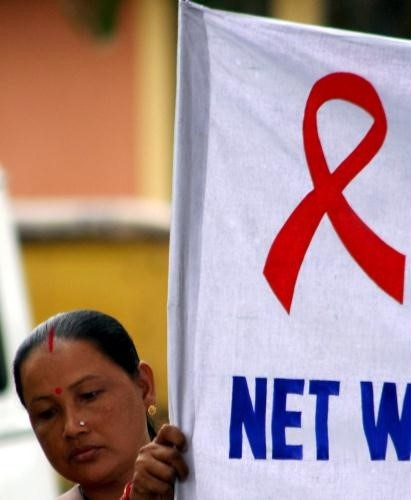face_no_mask: (12, 309, 169, 490)
